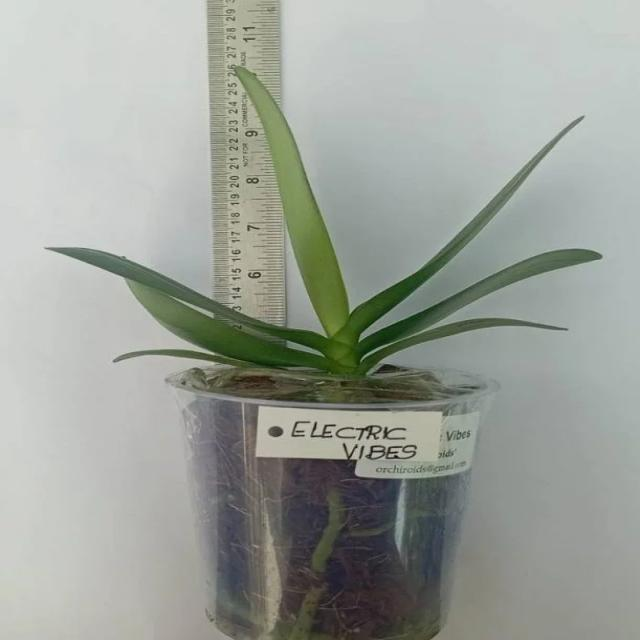leaf: (349, 116, 583, 334), (236, 66, 355, 335), (357, 248, 601, 356), (121, 256, 345, 372), (370, 318, 567, 360)
plant: (28, 11, 613, 639)
pot: (156, 359, 508, 640)
